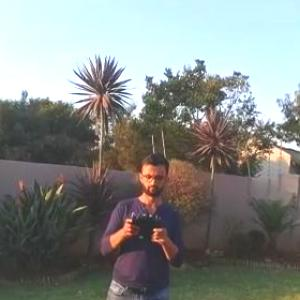follow: (92, 141, 191, 299)
